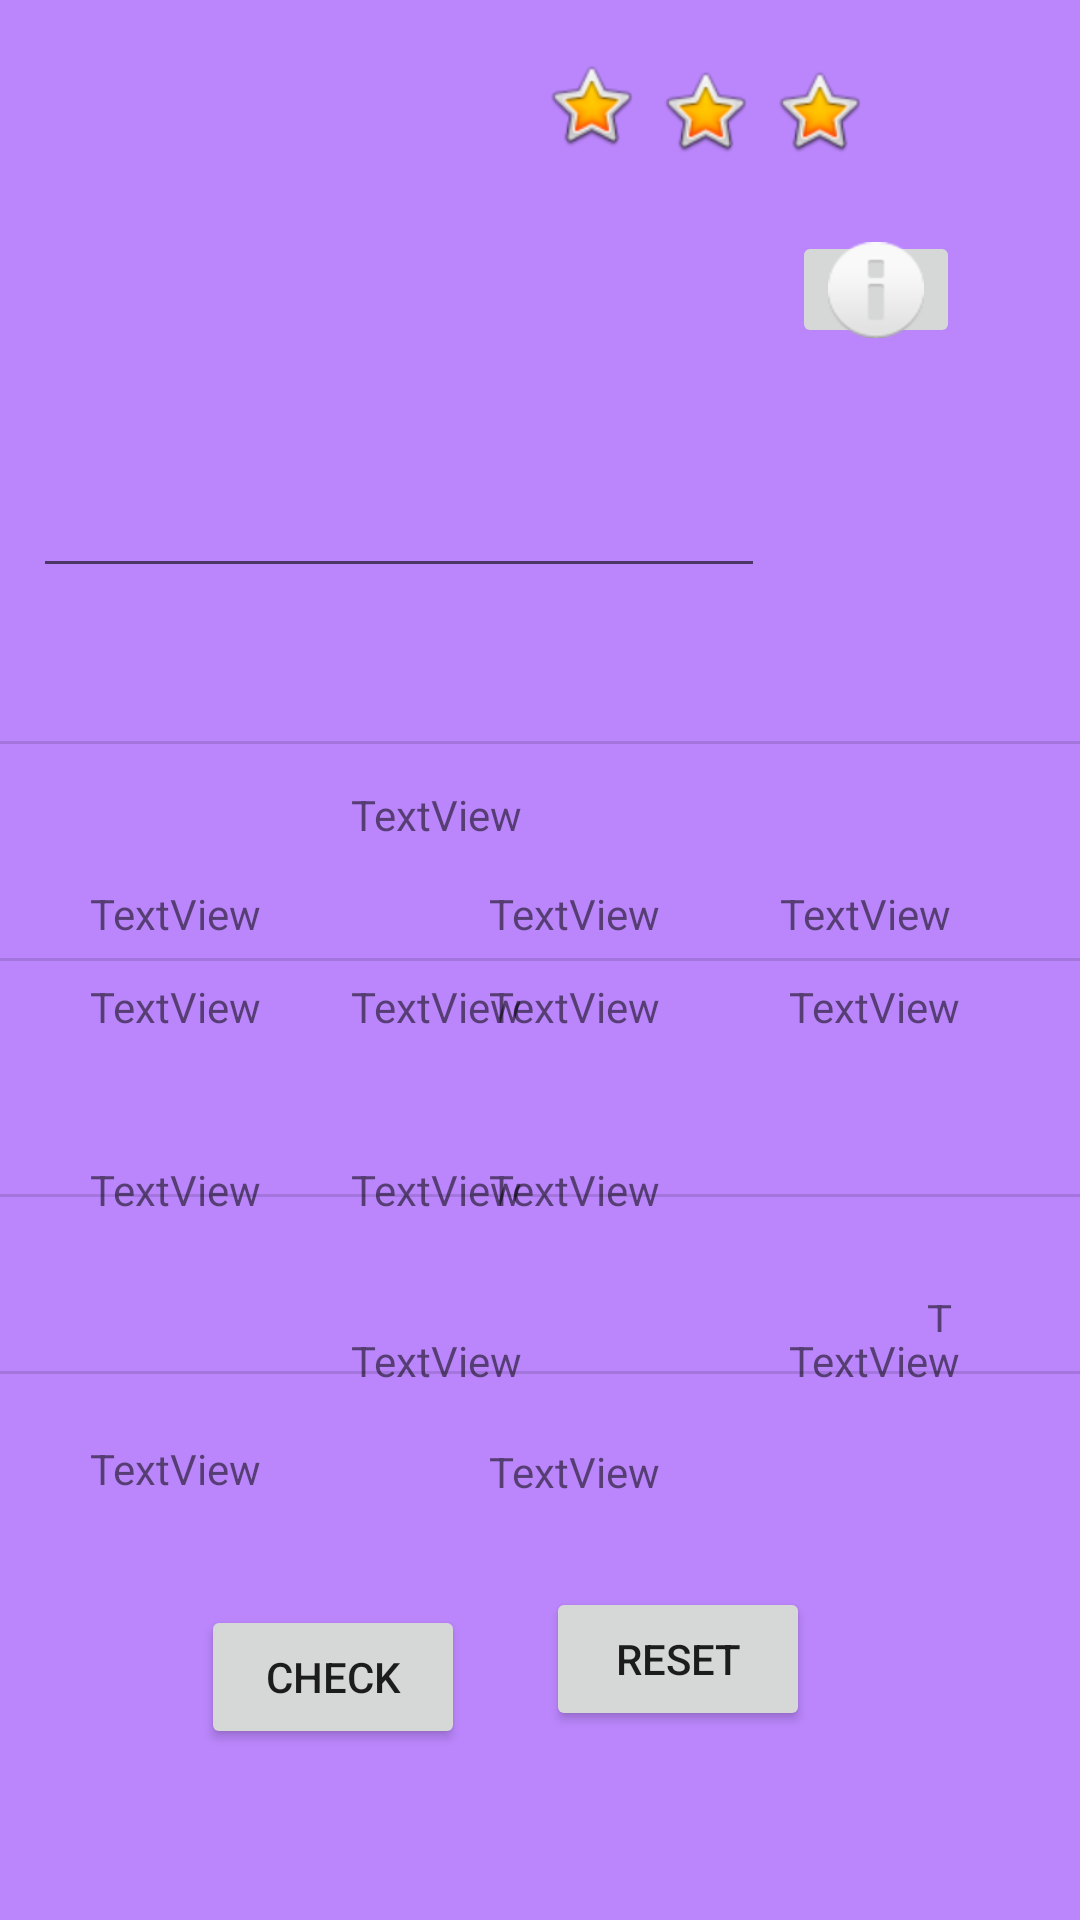

Where icons sit on this 1080*1920 app screen, as (x1, y1, x2, y2):
info: (804, 242, 948, 338)
star on: (552, 67, 632, 145), (666, 73, 746, 151), (780, 73, 860, 151)
